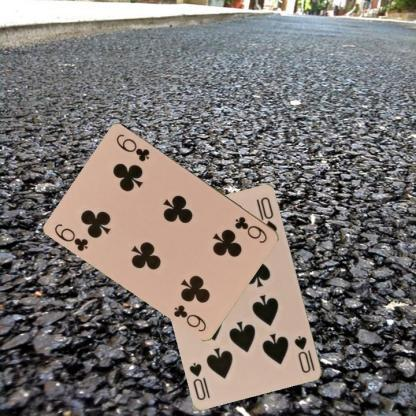10s: (292, 332, 316, 375)
6c: (232, 214, 270, 245), (52, 221, 90, 252)
